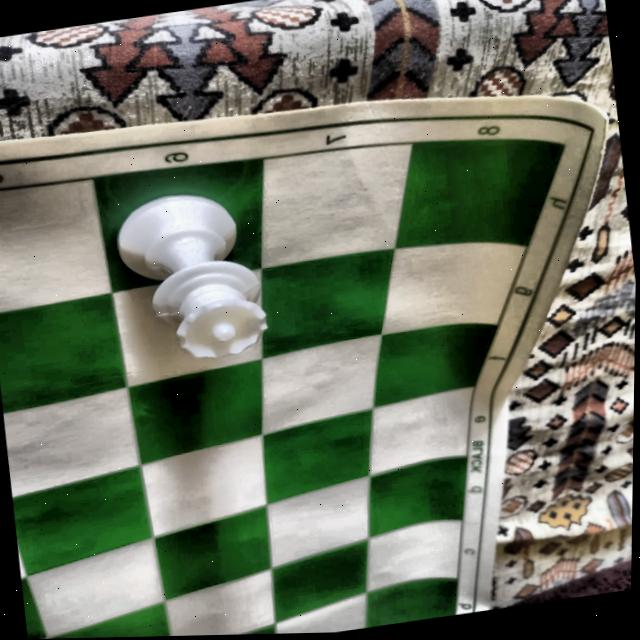WhiteQueen: (110, 182, 276, 370)
